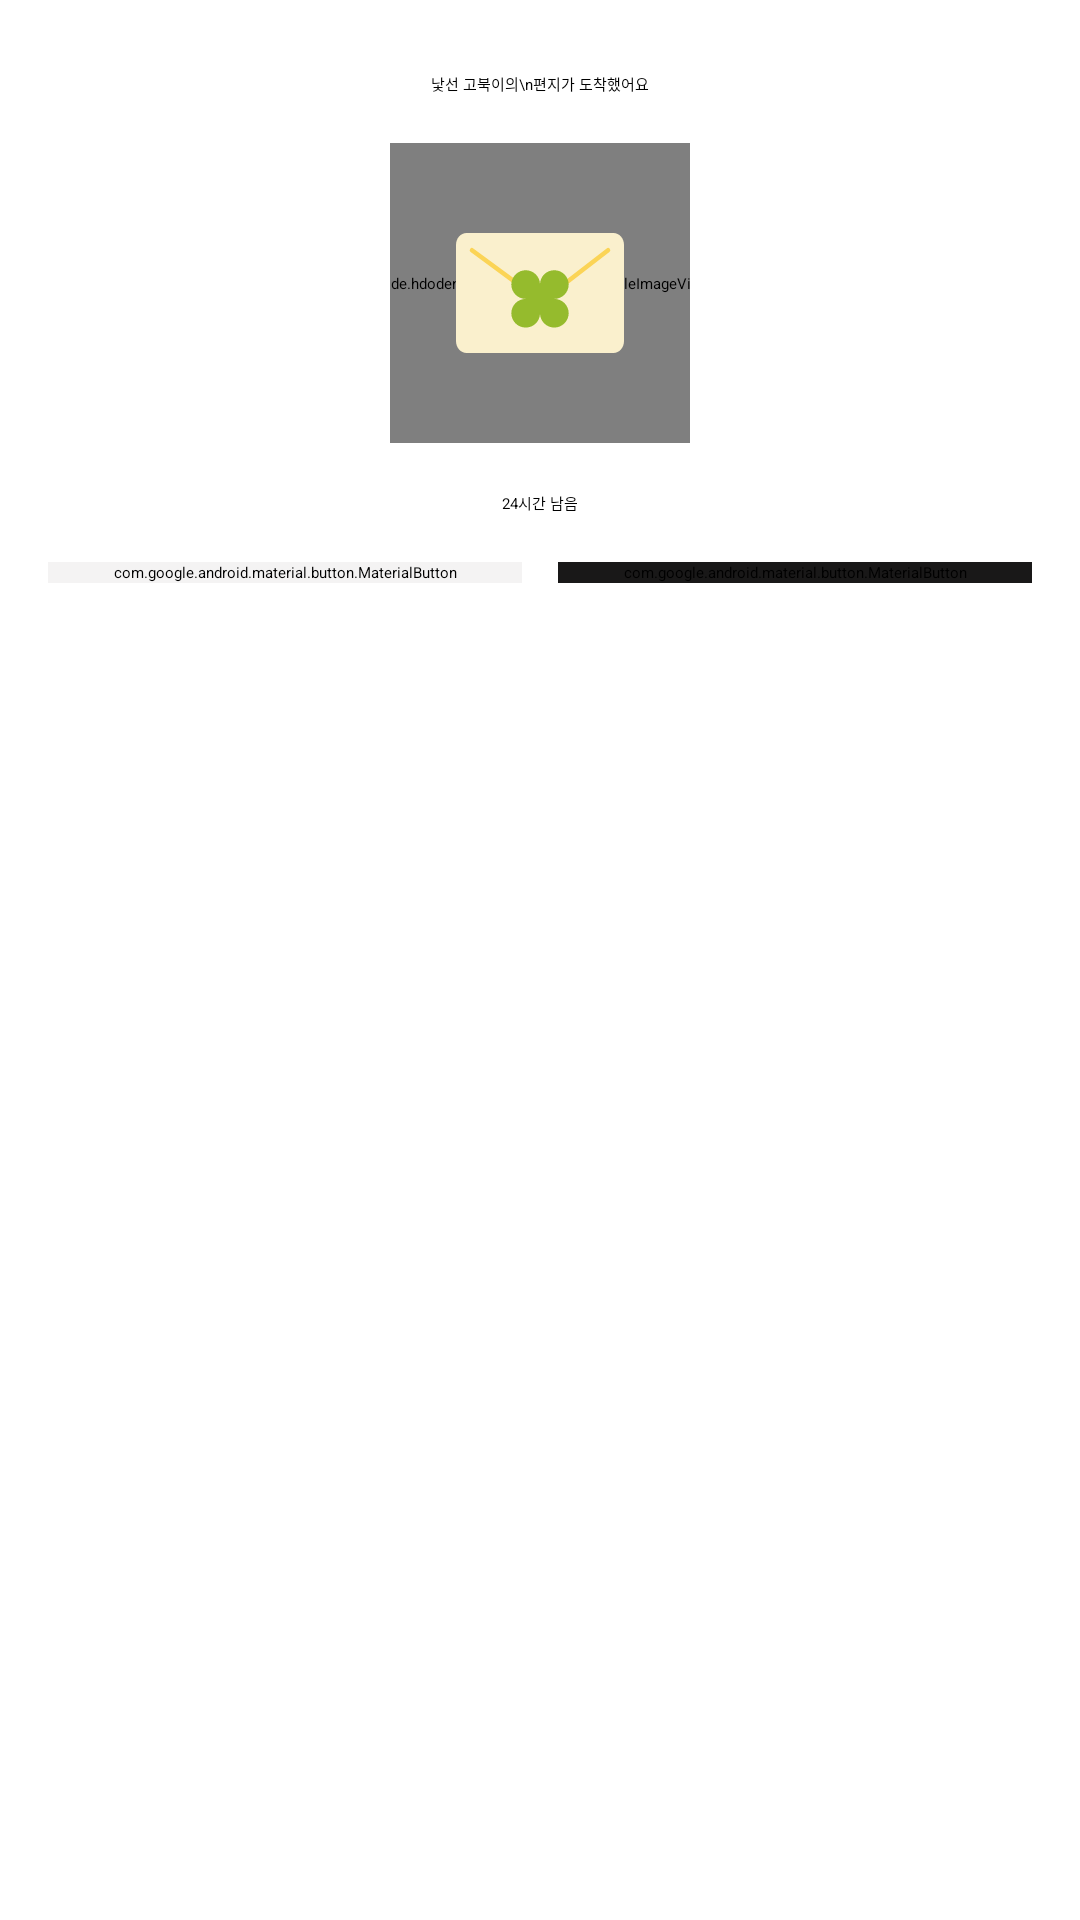

Where icons sit on this 1080×1920 app screen, as [x1,y1,x2,y2]:
letter: [456,233,624,353]
